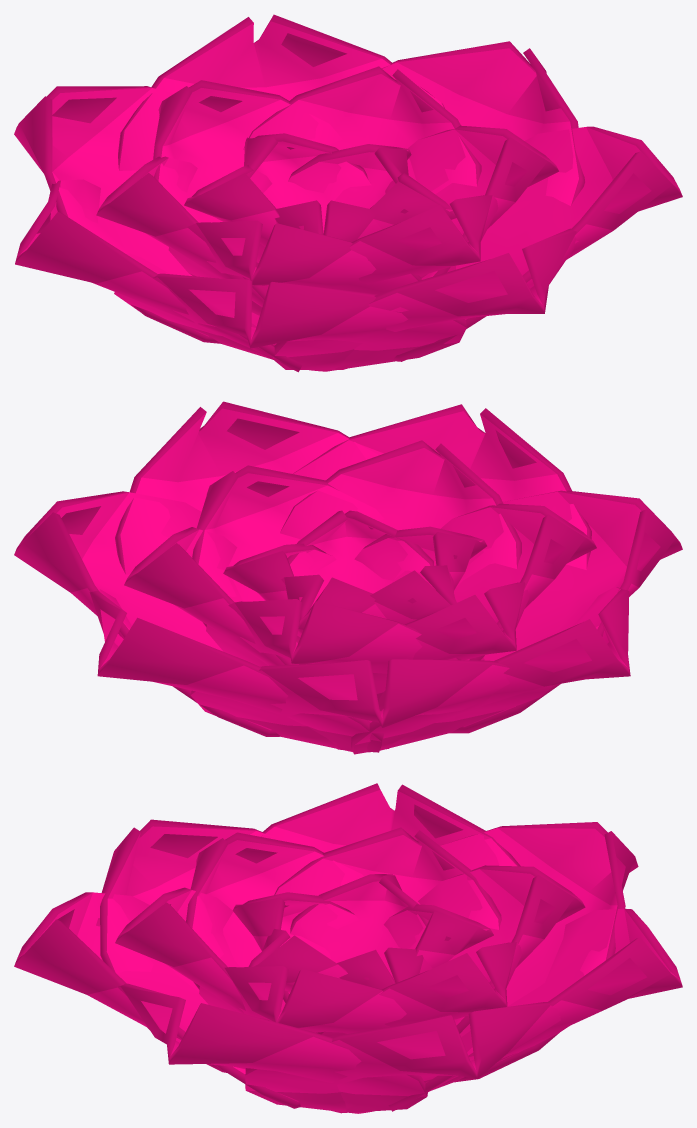
The model's file is garden-rose-bloom-head-1-ff0088.glb.
3 views of the same model, one above another, from view 1: azimuth 30°, elevation 25°; view 2: azimuth 150°, elevation 25°; view 3: azimuth 270°, elevation 25° (orthographic). The views are drawn at different scales.
Visible parts, largest first — view 1: rose-bloom-head-1-ff0088; view 2: rose-bloom-head-1-ff0088; view 3: rose-bloom-head-1-ff0088.
Boxes of the visible parts, x1=… form: rose-bloom-head-1-ff0088: x1=14, y1=14, x2=682, y2=372; rose-bloom-head-1-ff0088: x1=14, y1=401, x2=682, y2=754; rose-bloom-head-1-ff0088: x1=14, y1=783, x2=682, y2=1113.
Size of the model in its own units: 0.1104 by 0.0397 by 0.1138.
